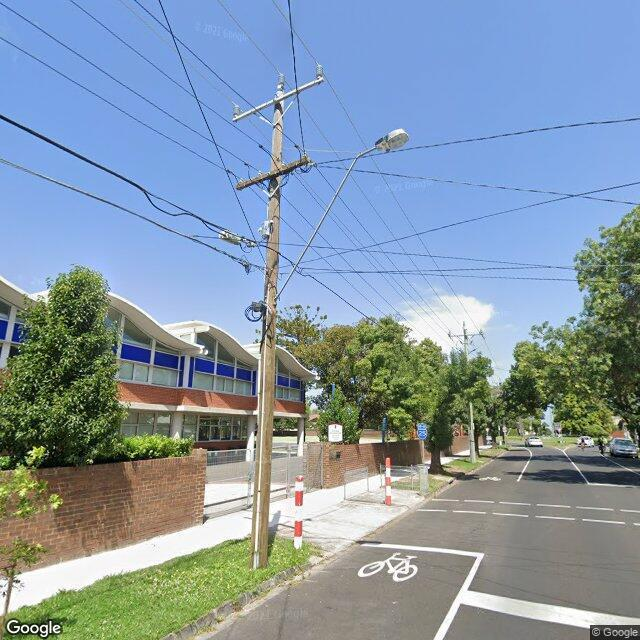HV-transmission: (233, 63, 326, 122), (448, 321, 485, 341)
crossarm: (227, 144, 316, 192), (233, 76, 325, 122), (452, 333, 479, 337)
streetlight: (274, 128, 410, 302)
timber-pole: (248, 89, 286, 572), (464, 330, 476, 462)
